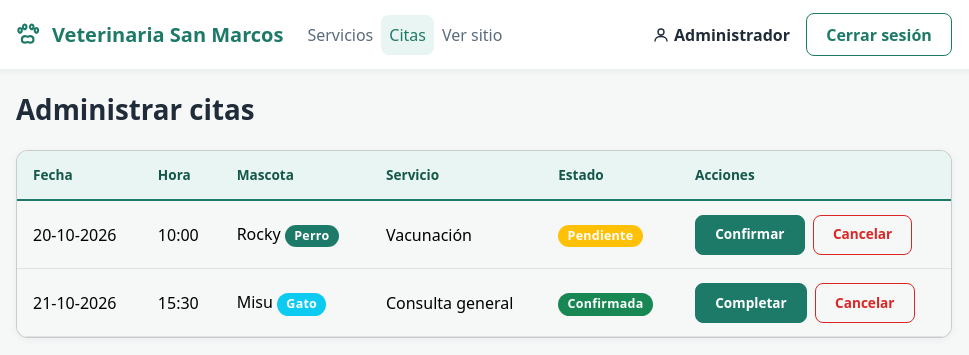
Test: Página AdminCitas › una cita Pendiente se puede Confirmar y luego Completar
This screenshot has width=969, height=355.
Click the button "Confirmar" at coordinates (750, 235), box [695, 215, 805, 255]
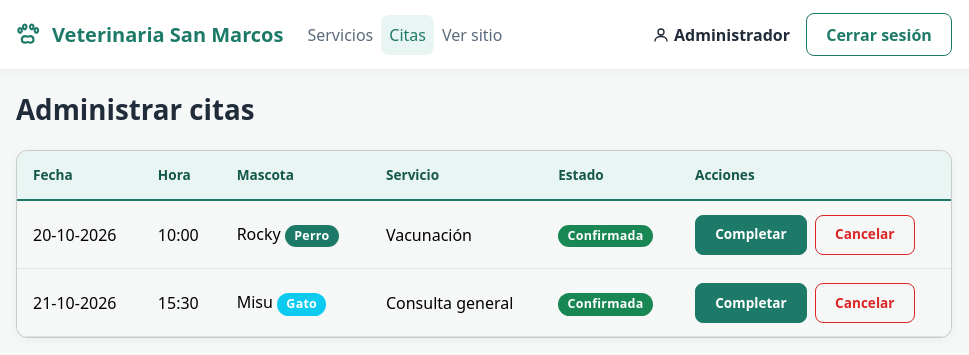
Now the text "Confirmada" in the row of "20-10-2026" is shown, box [568, 227, 643, 244]
Click the button "Completar" in the row of "20-10-2026" at coordinates (751, 235), box [695, 215, 807, 255]
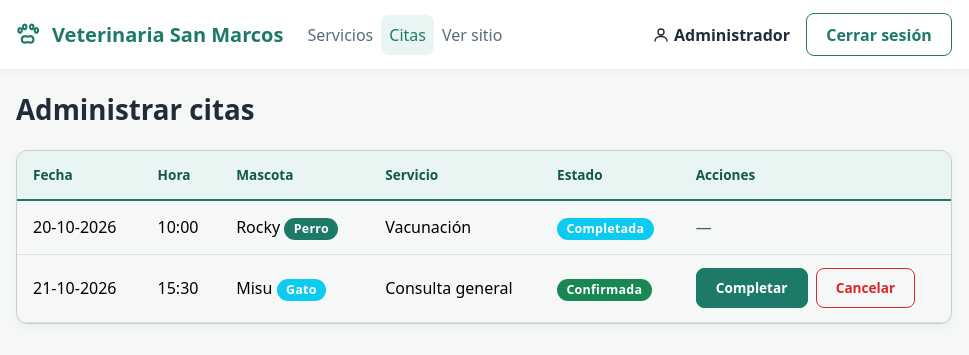
Now the text "Completada" is shown, box [557, 218, 654, 240]
